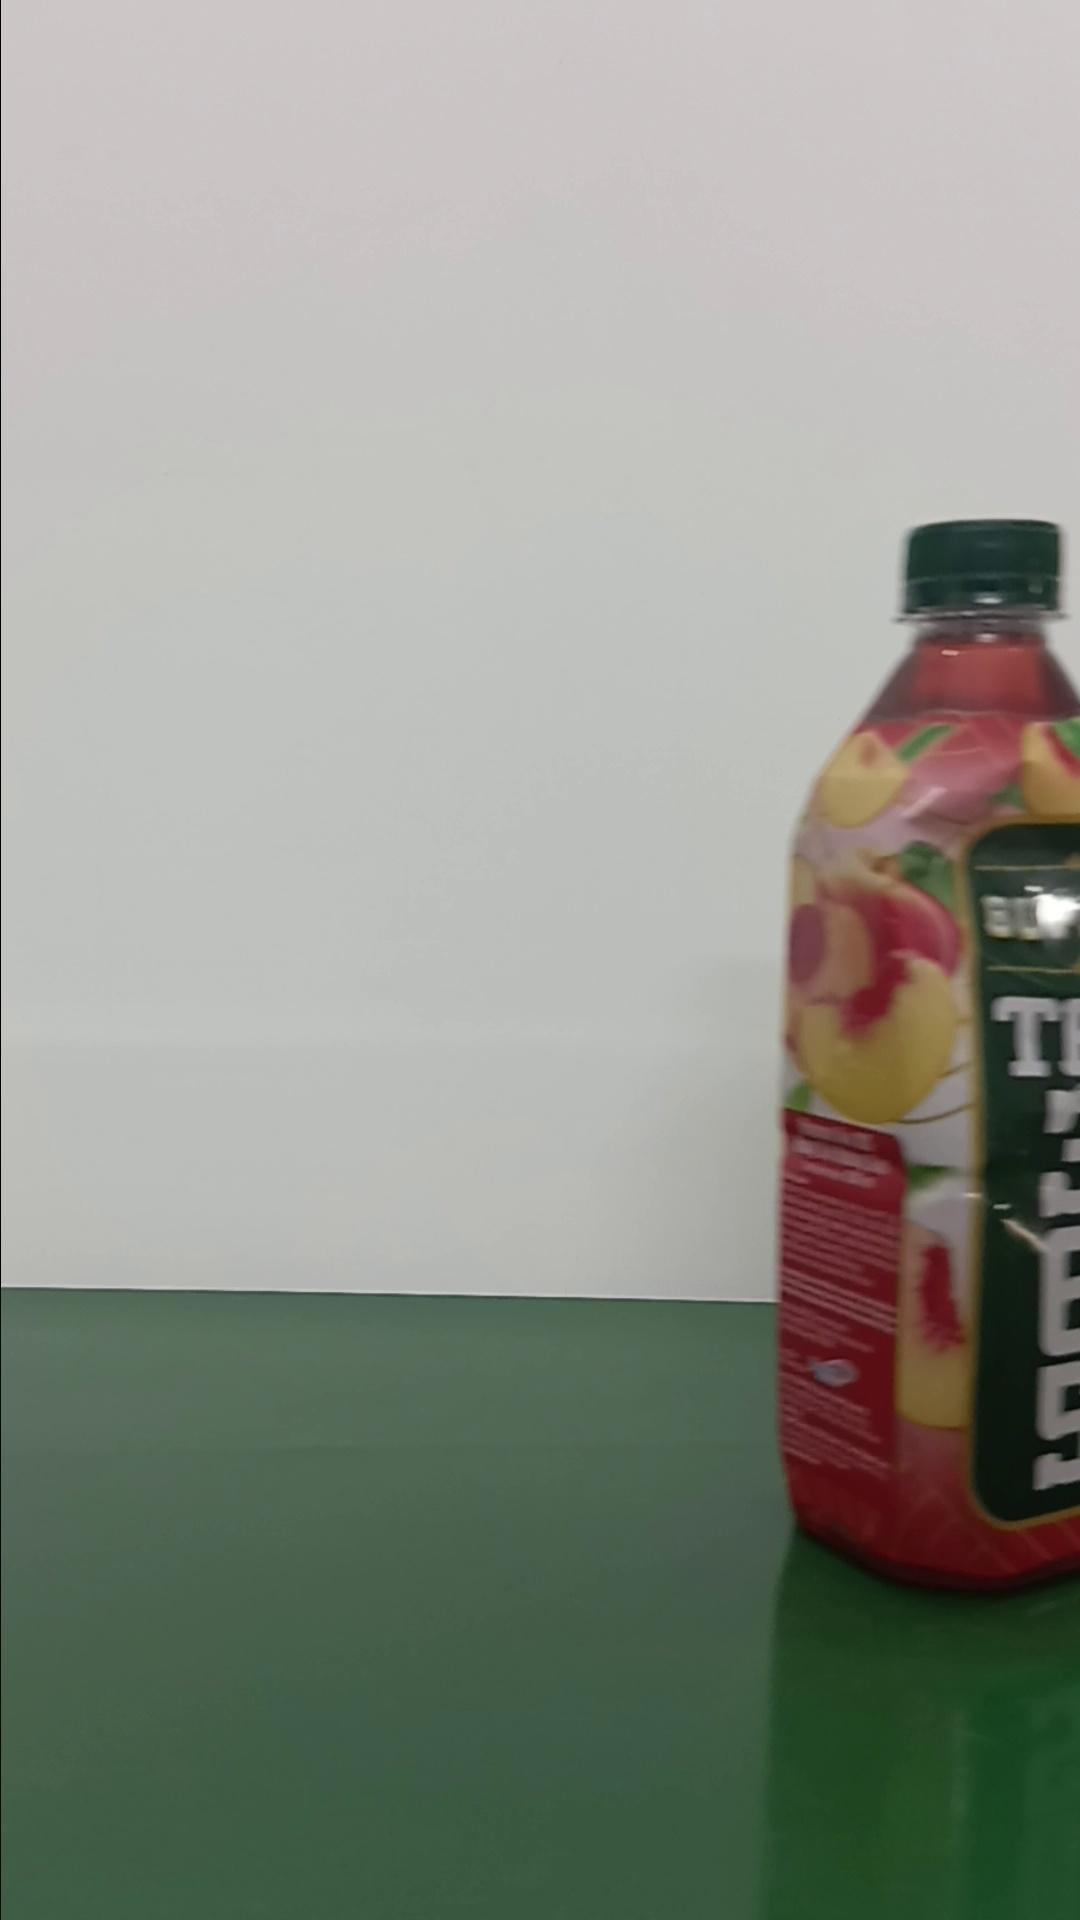loi meo sp: (771, 514, 1077, 1592)
